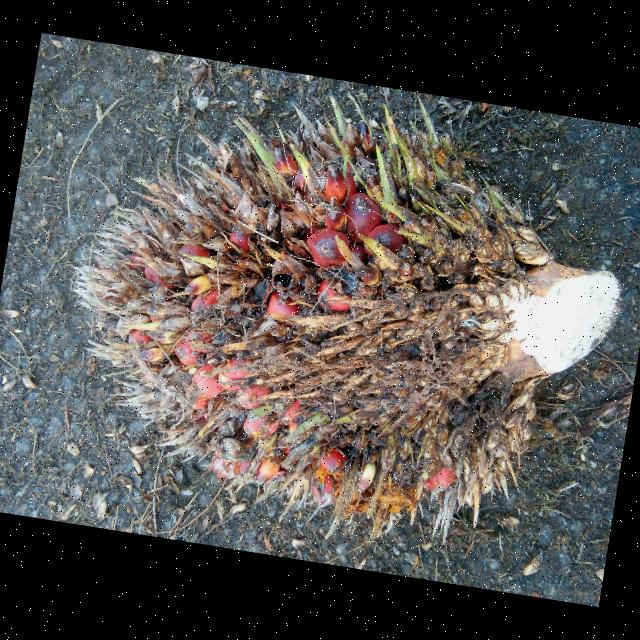Overripe: (84, 130, 618, 520)
